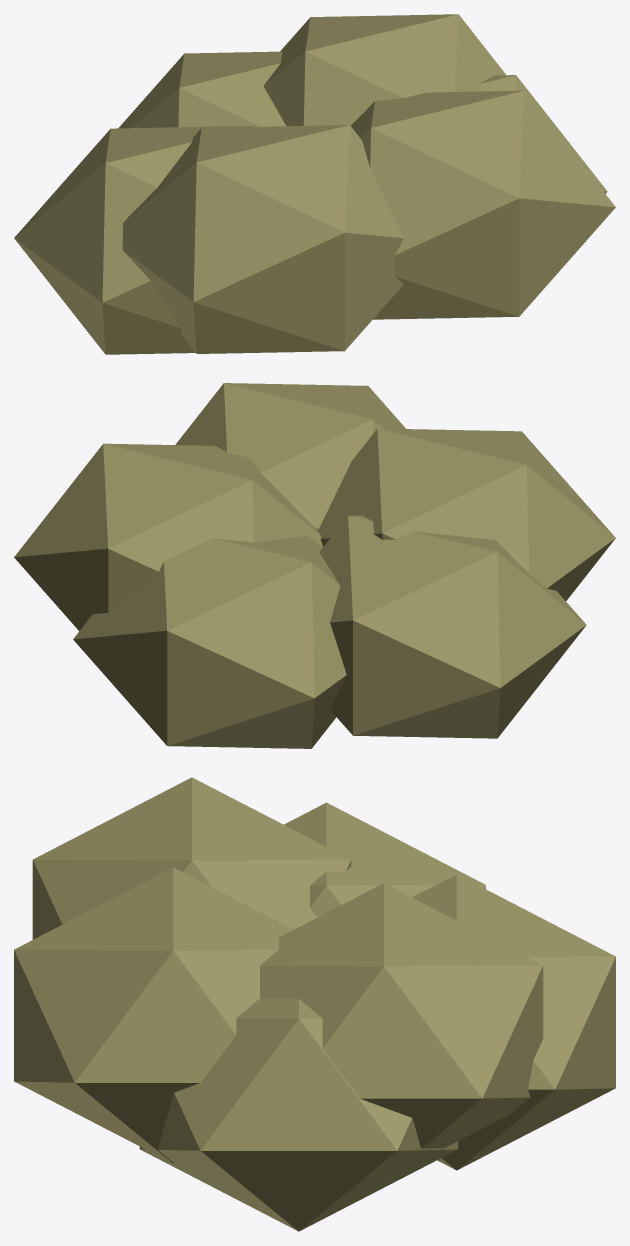
File: dry-bush.glb
The picture shows the model from 3 angles, top to bottom: view 1: azimuth 30°, elevation 25°; view 2: azimuth 150°, elevation 25°; view 3: azimuth 270°, elevation 25°; orthographic projection. The views are drawn at different scales.
Parts seen in each view (by area): view 1: Сухой кустарник; view 2: Сухой кустарник; view 3: Сухой кустарник.
Boxes of the visible parts, left/top/right/bottom form: Сухой кустарник: left=14, top=14, right=615, bottom=354; Сухой кустарник: left=14, top=383, right=615, bottom=748; Сухой кустарник: left=14, top=777, right=615, bottom=1231.
Size of the model in its own units: 2.2 by 0.9766 by 2.09.
